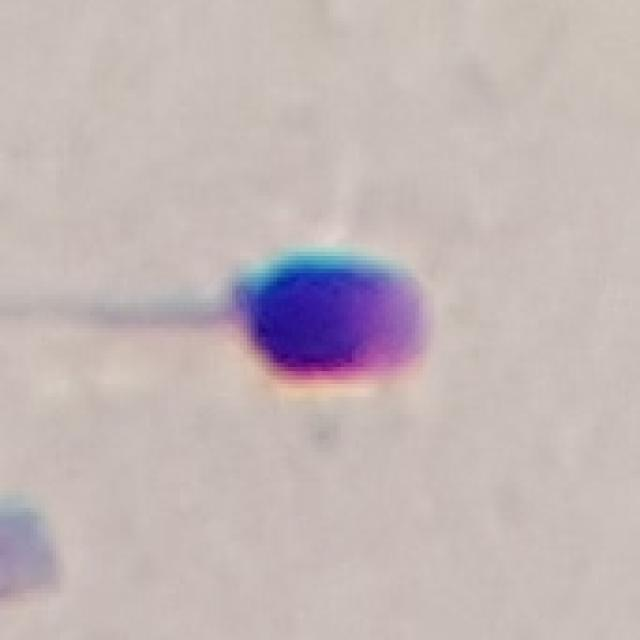normal sperm: (136, 253, 434, 387)
